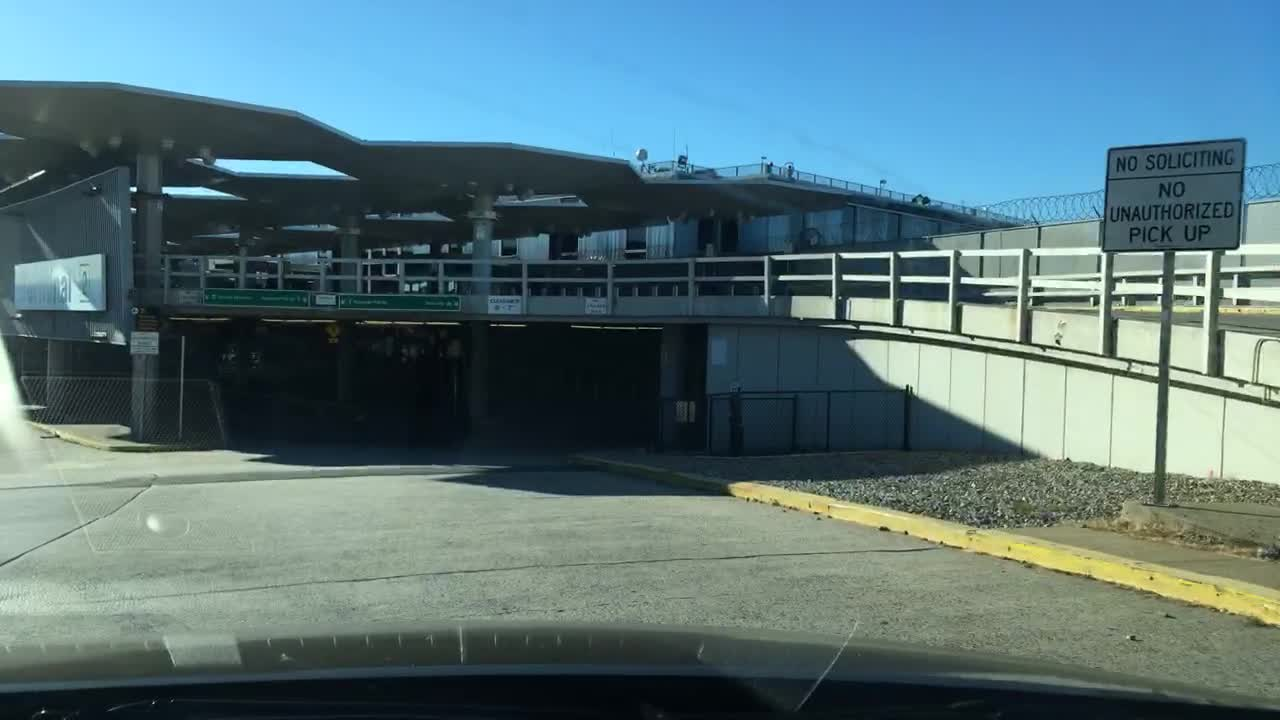car: (442, 250, 516, 290), (396, 250, 446, 289), (215, 255, 274, 286), (274, 261, 335, 288), (200, 259, 236, 285)
traffic sign: (1102, 136, 1244, 252), (337, 291, 460, 313), (201, 289, 310, 306)
